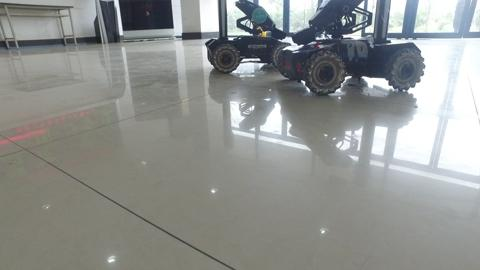chariot: (281, 1, 425, 93), (201, 1, 297, 75)
